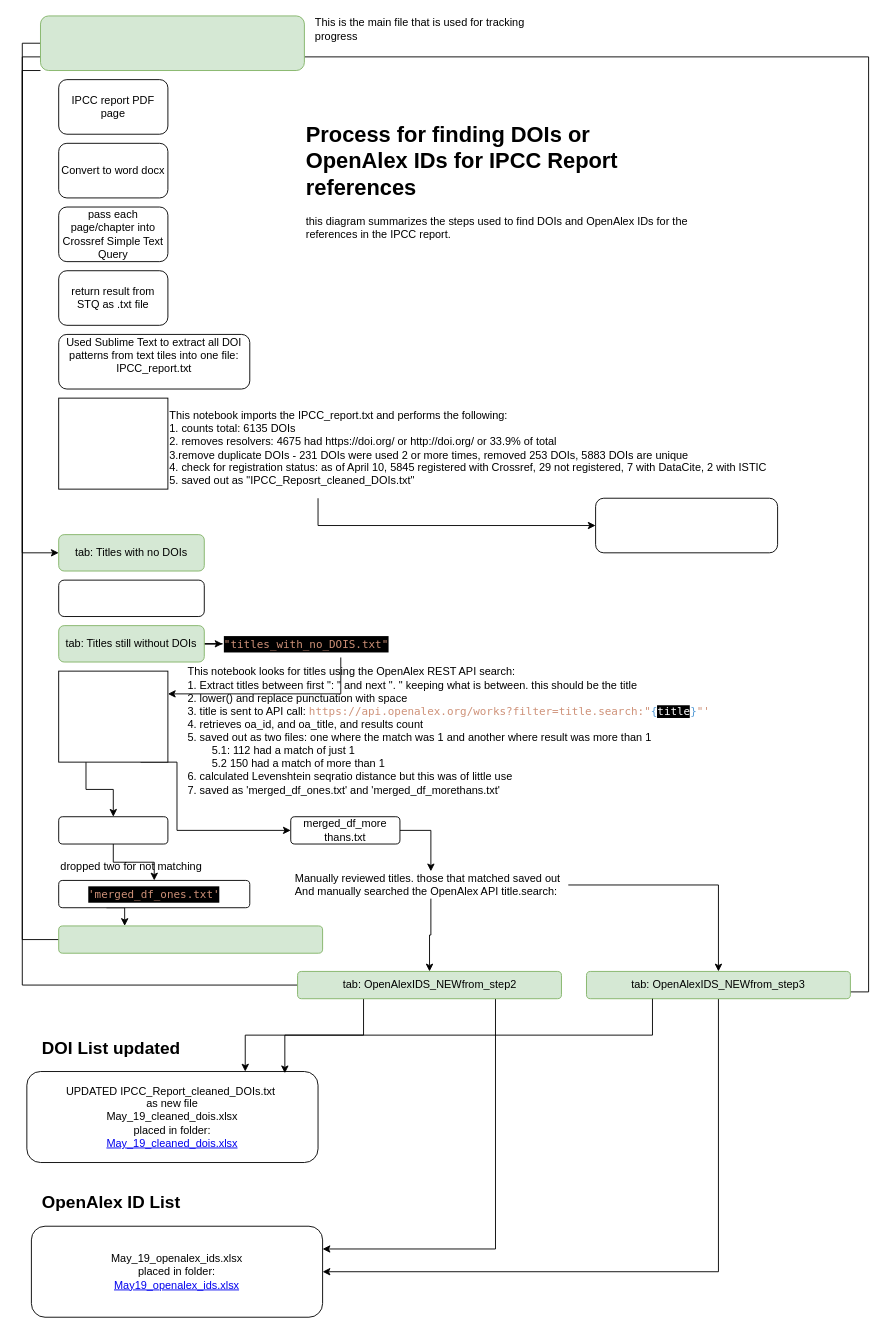
Some shapes in this 885 by 1333 pixel diagram are drawn without their labels. Each missing label, with the box of its shape:
DOI_errors.ipynb: (58, 397, 168, 489)
DOI_search.ipynb: (58, 670, 168, 762)
IPCC_Report_References_dois_v2.xlsx IPCC_Report_References_dois_v2.xlsx: (40, 15, 304, 71)
merged_df_ones.txt: (58, 816, 168, 844)
passed to STQ again: (58, 579, 204, 617)
Saved out: IPCC_Report_cleaned_DOIs.txt: (595, 497, 778, 553)
tab OpenAlexIDS for NonDOIs_step1: (58, 925, 323, 953)
